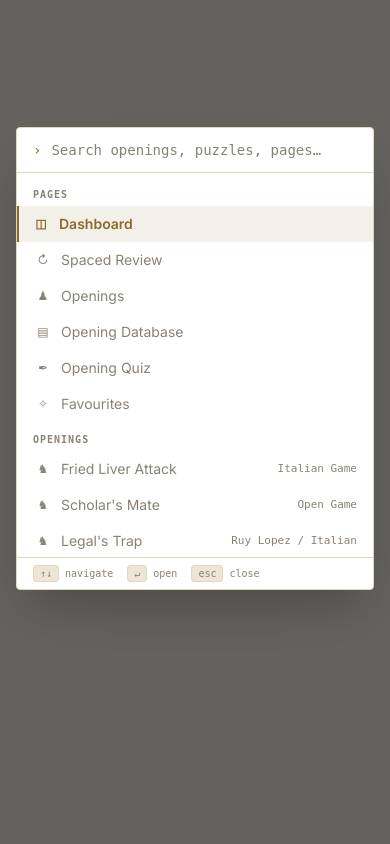
CommandPalette › shows "No results" for a query that matches nothing
In the dropdown with placeholder "Search openings, puzzles, pages…": x=204, y=150 [51,140,357,160], type "zzzznotarealthing"
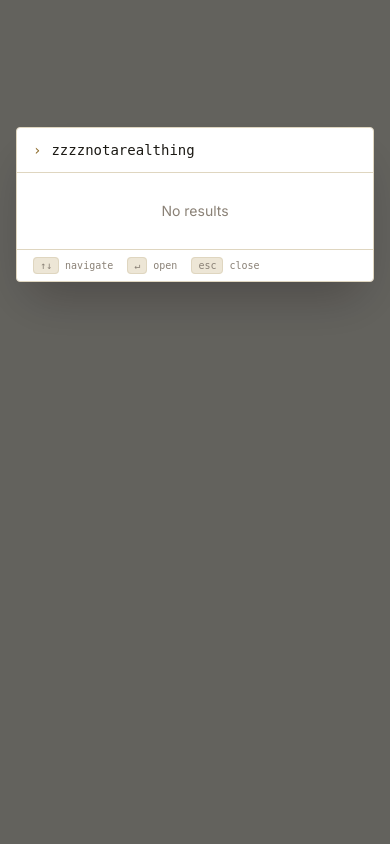
Now the text "No results" is shown, box [161,202,229,219]
